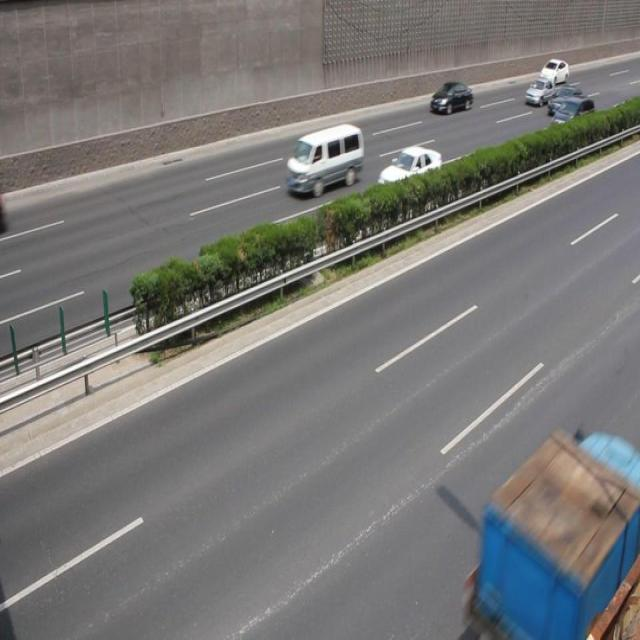car: (375, 144, 441, 201), (547, 95, 594, 137), (428, 81, 472, 112), (547, 86, 582, 115), (523, 78, 554, 106), (538, 58, 566, 85)
truck: (285, 123, 364, 198)
